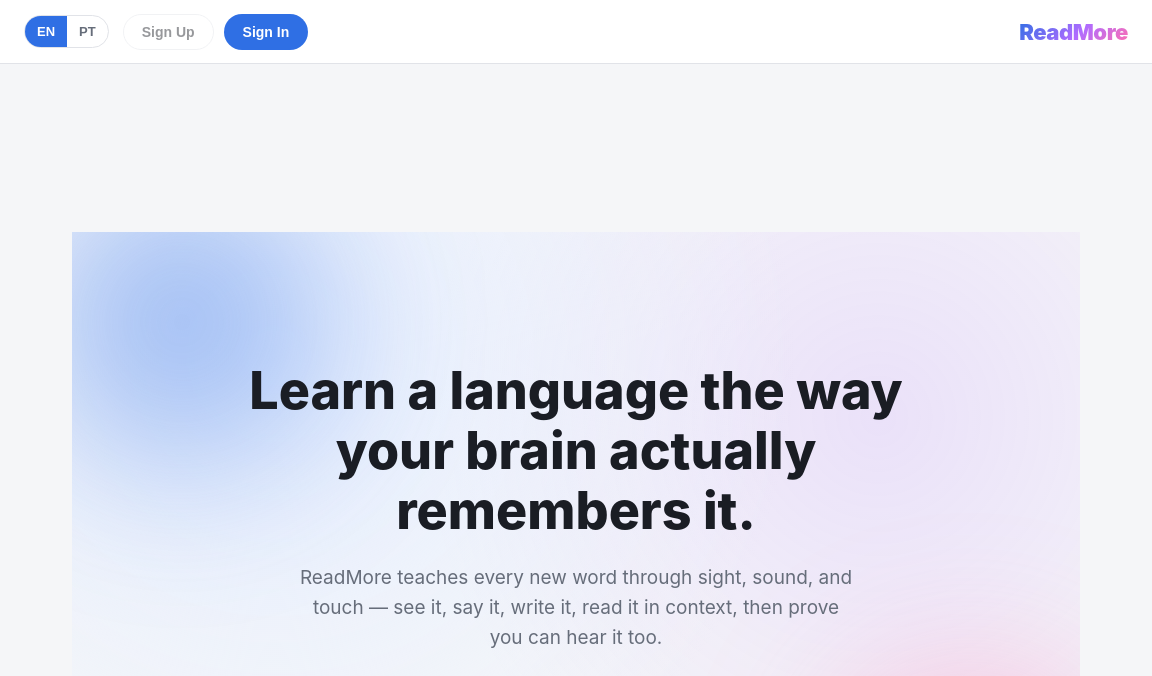
Test: PresentationPage › language toggle › switches all page content to Portuguese, and back to English
Click the button "PT".
click(87, 32)  # box 67,16 -> 108,47
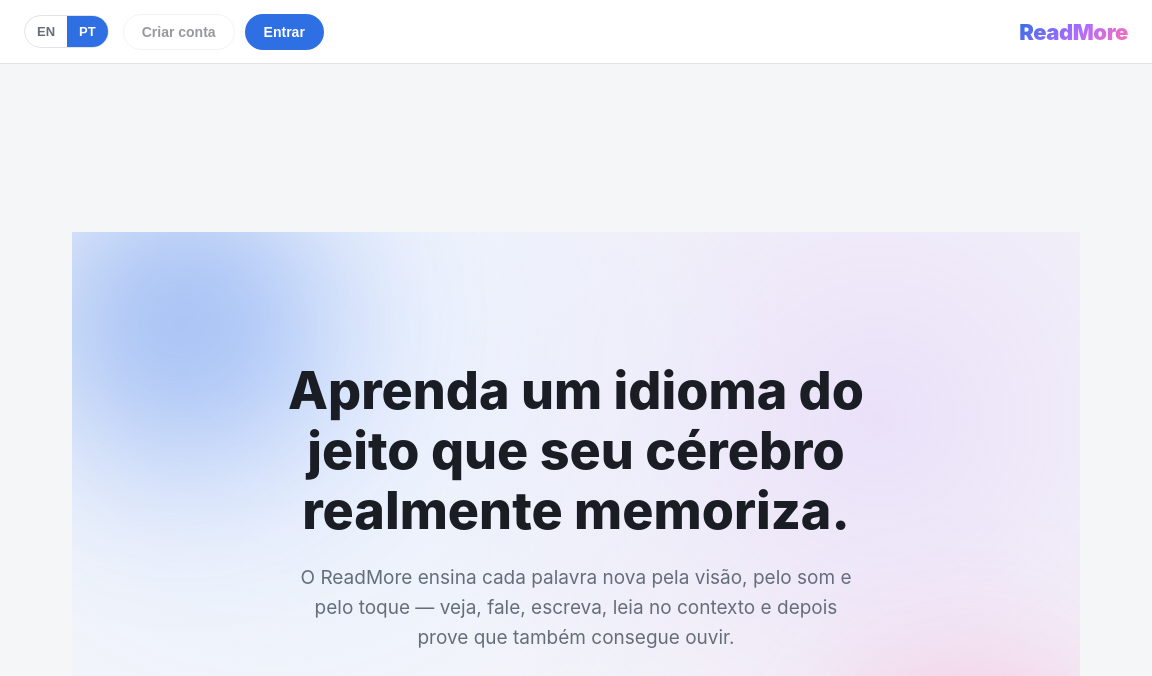
Result: the heading reads "Aprenda um idioma do jeito que seu cérebro realmente memoriza." at 288,359 -> 864,542
Result: the button "Entrar" is shown at 245,14 -> 324,50
Click the button "EN".
click(46, 32)  # box 25,16 -> 67,47
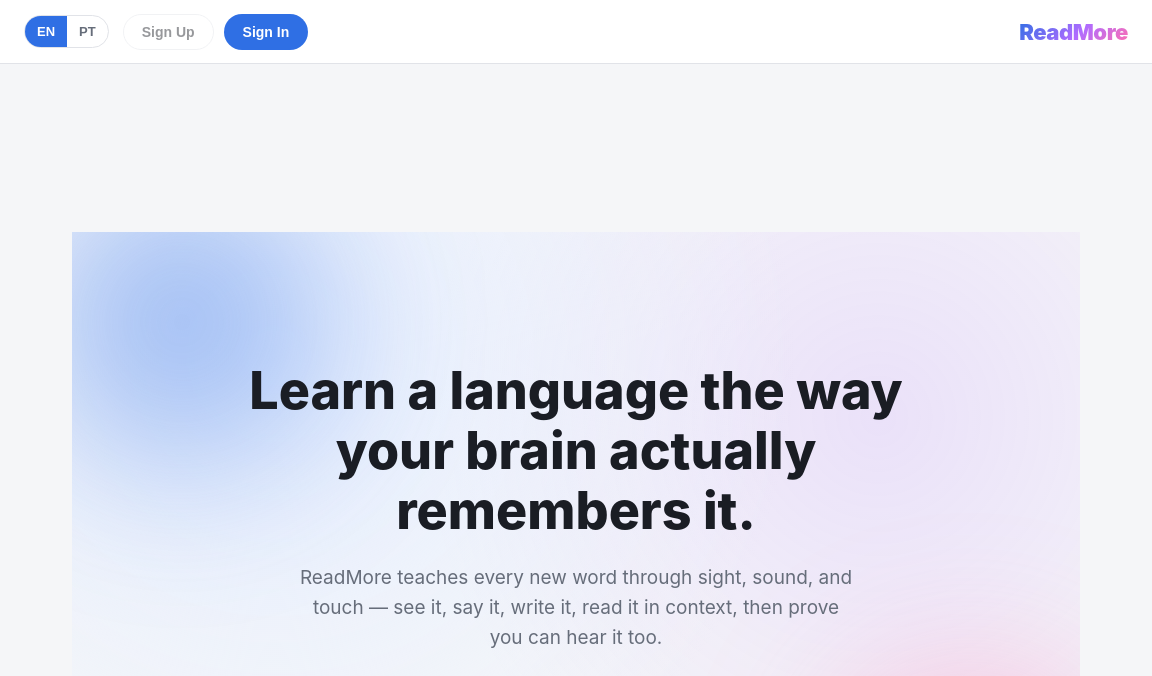
Result: the heading "Learn a language the way your brain actually remembers it." is shown at 240,361 -> 912,541
